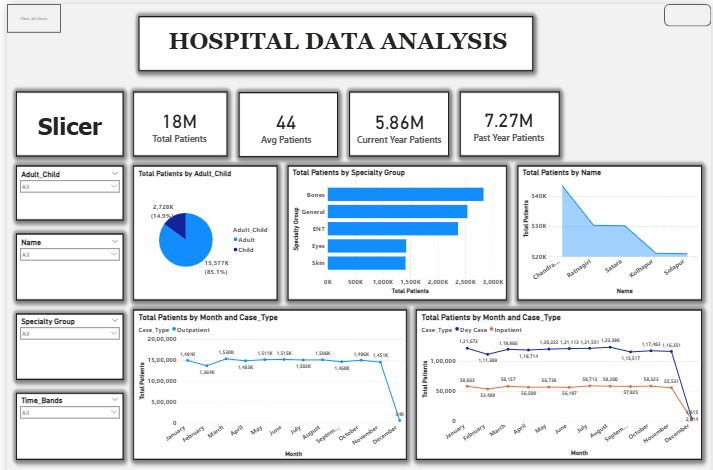

The page's visual inventory and layout, read from the dashboard file:
{"tool":"powerbi","page":{"name":"Dashboard","canvas":[2200,1500],"ordinal":1},"visuals":[{"type":"card","fields":{"Values":["Measures (2).Total Patients"]},"box":[392.5,275,290,202.5],"z":0},{"type":"card","fields":{"Values":["Measures (2).Current Year Patients"]},"box":[1070,278,314,200],"z":1000},{"type":"card","fields":{"Values":["Measures (2).Past Year Patients"]},"box":[1422.5,277.5,292.5,190],"z":2000},{"type":"card","fields":{"Values":["Measures (2).Avg Patients"]},"box":[730,286,282,182],"z":3000},{"type":"pieChart","fields":{"Category":["Hospital Data.Adult_Child"],"Y":["Measures (2).Total Patients"]},"box":[407.5,515,440,417.5],"z":4000},{"type":"lineChart","fields":{"Y":["Measures (2).Total Patients"],"Category":["Hospital Data.Archive_Date.Variation.Date Hierarchy.Month"],"Series":["Hospital Data.Case_Type"]},"box":[406.7,963.3,850,460],"z":5000},{"type":"lineChart","fields":{"Y":["Measures (2).Total Patients","select"],"Category":["Hospital Data.Archive_Date.Variation.Date Hierarchy.Month"],"Series":["Hospital Data.Case_Type"]},"box":[1290,963.3,880,455],"z":6000},{"type":"clusteredBarChart","fields":{"Y":["Measures (2).Total Patients"],"Category":["Mapping_Specialty.Specialty Group"]},"box":[886.7,513.3,668.9,400],"z":7000},{"type":"stackedAreaChart","fields":{"Y":["Measures (2).Total Patients"],"Category":["Dis Name MH.Name"]},"box":[1606.7,513.3,563.3,400],"z":8000},{"type":"slicer","fields":{"Values":["Hospital Data.Adult_Child"]},"box":[30,512.9,330,158.6],"z":9000},{"type":"slicer","fields":{"Values":["Dis Name MH.Name"]},"box":[30,724.3,330,197.1],"z":10000},{"type":"slicer","fields":{"Values":["Mapping_Specialty.Specialty Group"]},"box":[30,971.4,330,197.9],"z":11000},{"type":"slicer","fields":{"Values":["Hospital Data.Time_Bands"]},"box":[30,1219.3,330,198.6],"z":12000},{"type":"textbox","box":[30,332.5,330,115],"z":13000},{"type":"textbox","box":[440,70,1187.5,122.5],"z":14000},{"type":"actionButton","box":[0,0,168.6,90],"z":15000},{"type":"actionButton","box":[2052,0,148,70],"z":16000}]}

Visuals, with their boxes in screenshot pixels (x1, y1, x2, y2):
card - Measures (2).Total Patients: [x1=129, y1=90, x2=222, y2=155]
card - Measures (2).Current Year Patients: [x1=346, y1=91, x2=447, y2=155]
card - Measures (2).Past Year Patients: [x1=459, y1=91, x2=553, y2=152]
card - Measures (2).Avg Patients: [x1=237, y1=93, x2=328, y2=152]
pieChart - Hospital Data.Adult_Child x Measures (2).Total Patients: [x1=134, y1=167, x2=275, y2=300]
lineChart - Measures (2).Total Patients x Hospital Data.Archive_Date.Variation.Date Hierarchy.Month: [x1=134, y1=310, x2=406, y2=458]
lineChart - Measures (2).Total Patients x select: [x1=417, y1=310, x2=699, y2=456]
clusteredBarChart - Measures (2).Total Patients x Mapping_Specialty.Specialty Group: [x1=288, y1=166, x2=502, y2=294]
stackedAreaChart - Measures (2).Total Patients x Dis Name MH.Name: [x1=518, y1=166, x2=699, y2=294]
slicer - Hospital Data.Adult_Child: [x1=13, y1=166, x2=119, y2=217]
slicer - Dis Name MH.Name: [x1=13, y1=234, x2=119, y2=297]
slicer - Mapping_Specialty.Specialty Group: [x1=13, y1=313, x2=119, y2=376]
slicer - Hospital Data.Time_Bands: [x1=13, y1=392, x2=119, y2=456]
textbox: [x1=13, y1=108, x2=119, y2=145]
textbox: [x1=145, y1=24, x2=525, y2=63]
actionButton: [x1=4, y1=2, x2=58, y2=31]
actionButton: [x1=661, y1=2, x2=708, y2=24]
